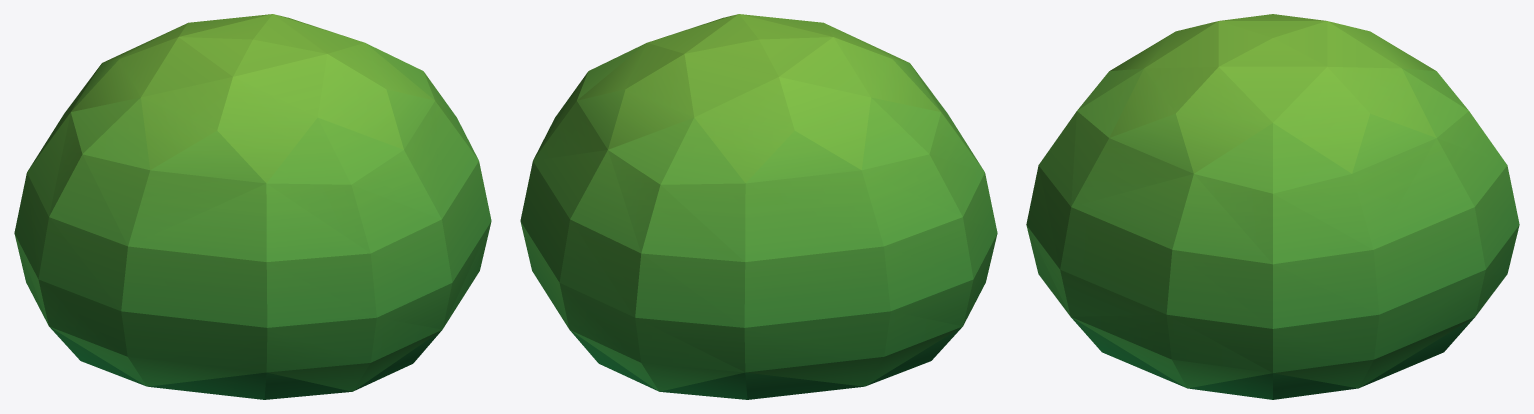
Rendered from kf_bush_1_c.fbx.
3 renders of one model, left to right at view 1: azimuth 30°, elevation 25°; view 2: azimuth 150°, elevation 25°; view 3: azimuth 270°, elevation 25°, orthographic.
Parts seen in each view (by area): view 1: kf_bush_1_c; view 2: kf_bush_1_c; view 3: kf_bush_1_c.
Boxes of the visible parts, x1=… form: kf_bush_1_c: x1=14, y1=14, x2=491, y2=399; kf_bush_1_c: x1=520, y1=14, x2=997, y2=399; kf_bush_1_c: x1=1026, y1=14, x2=1519, y2=399.
Size of the model in its own units: 1.93 by 1.29 by 1.93.
